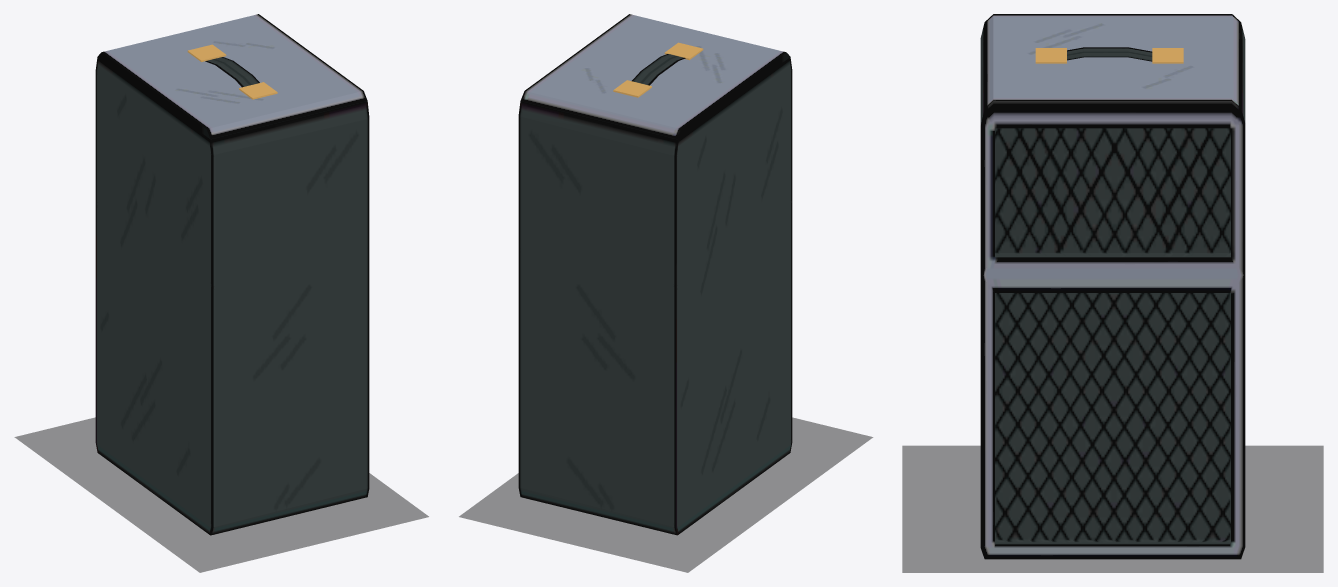
The model's file is Cave_Chair.glb.
3 views of the same model, side by side, from view 1: azimuth 30°, elevation 25°; view 2: azimuth 150°, elevation 25°; view 3: azimuth 270°, elevation 25° (orthographic). The views are drawn at different scales.
Parts seen in each view (by area): view 1: Cave_Chair, Chair_Shadow; view 2: Cave_Chair, Chair_Shadow; view 3: Cave_Chair, Chair_Shadow.
Part boxes in pixels (x1,y1,x2,y2): Cave_Chair: (95,14,369,535); Chair_Shadow: (14,417,428,572); Cave_Chair: (518,14,792,535); Chair_Shadow: (459,417,872,572); Cave_Chair: (980,14,1245,559); Chair_Shadow: (902,445,1323,572).
Size of the model in its own units: 1.15 by 1.95 by 1.61.
Materials: 2 (2 with a texture image).
